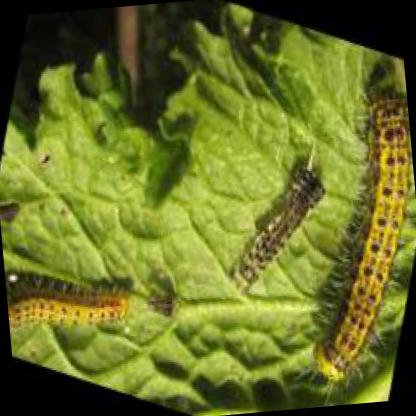pieris: (309, 93, 409, 385), (233, 168, 322, 287), (7, 279, 129, 329)
